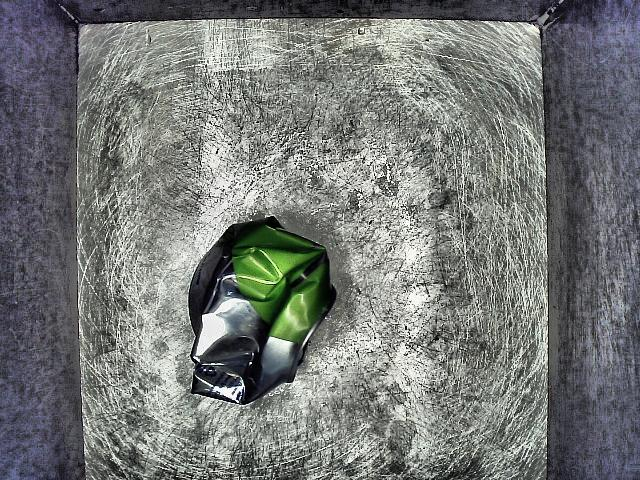Bottles: (160, 185, 360, 425)
